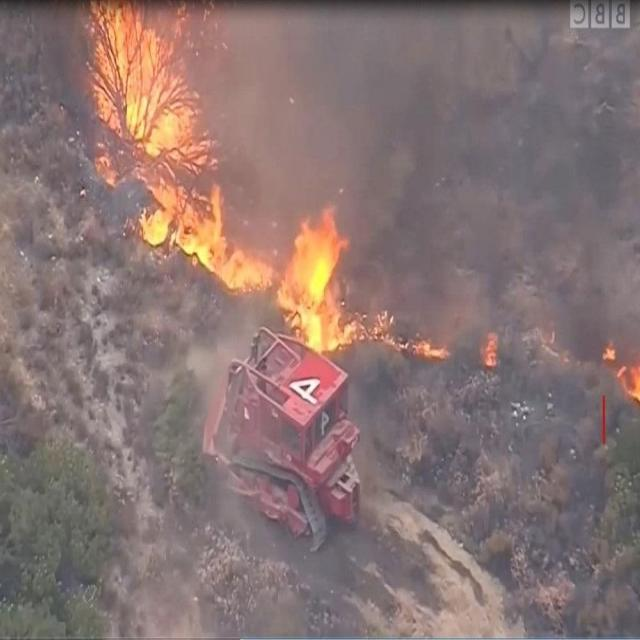Fire: (85, 1, 453, 362), (601, 341, 640, 404), (480, 330, 500, 369)
Smoke: (156, 1, 490, 349)
